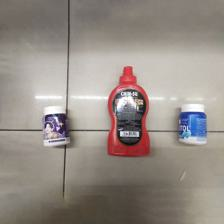Chinsu: (105, 66, 153, 157)
Xylitol_BTS: (40, 105, 71, 149)
Xylitol_blue: (177, 102, 211, 146)
